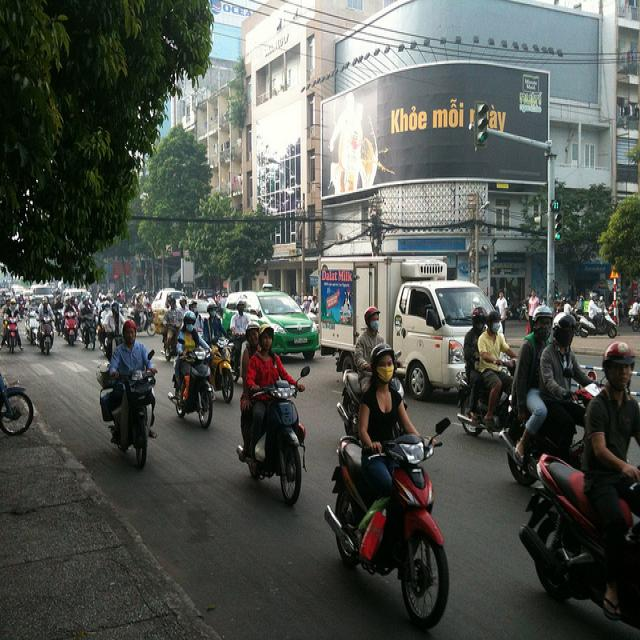motor: (7, 1, 639, 399), (324, 417, 451, 631), (515, 449, 607, 603), (235, 381, 302, 506), (99, 347, 157, 474), (507, 403, 585, 485), (338, 351, 406, 440), (457, 359, 519, 437), (168, 345, 216, 434), (0, 372, 34, 435), (210, 335, 235, 403), (36, 309, 56, 356), (4, 315, 20, 358), (80, 328, 94, 353)
